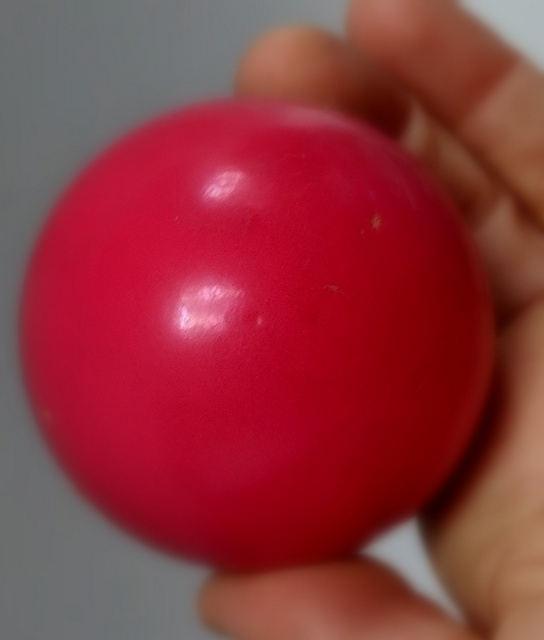ball: (21, 100, 491, 582)
